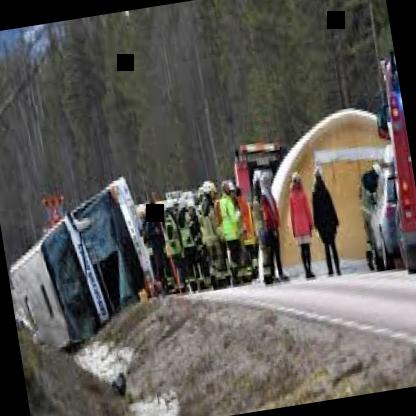accident: (0, 172, 180, 383)
